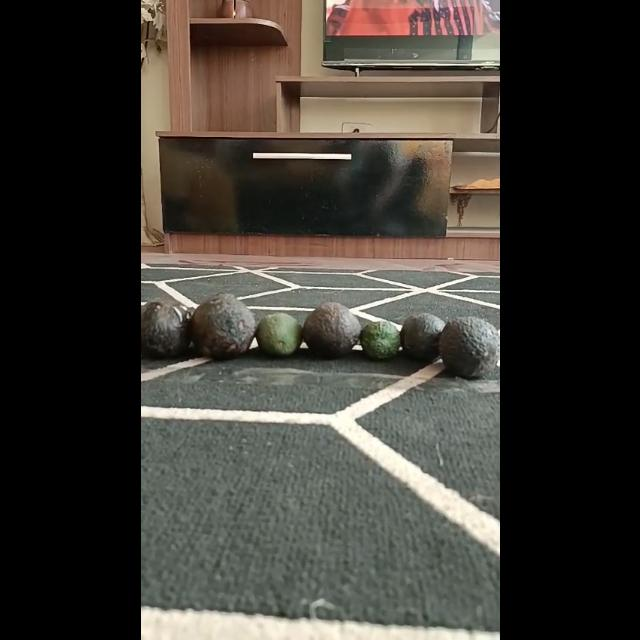Primera: (188, 293, 256, 359), (438, 316, 498, 379), (302, 302, 361, 358), (140, 299, 190, 357)
Segunda: (400, 313, 444, 361), (254, 313, 302, 357)
Tercera: (360, 320, 400, 360)
